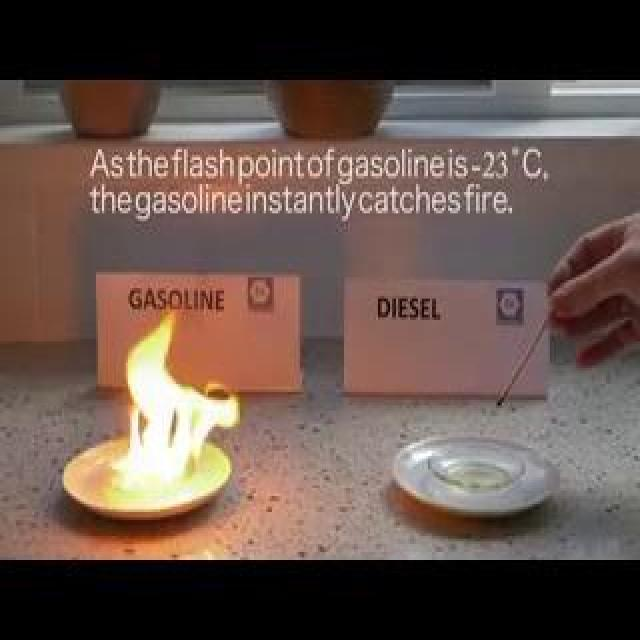Fire: (122, 286, 230, 486)
